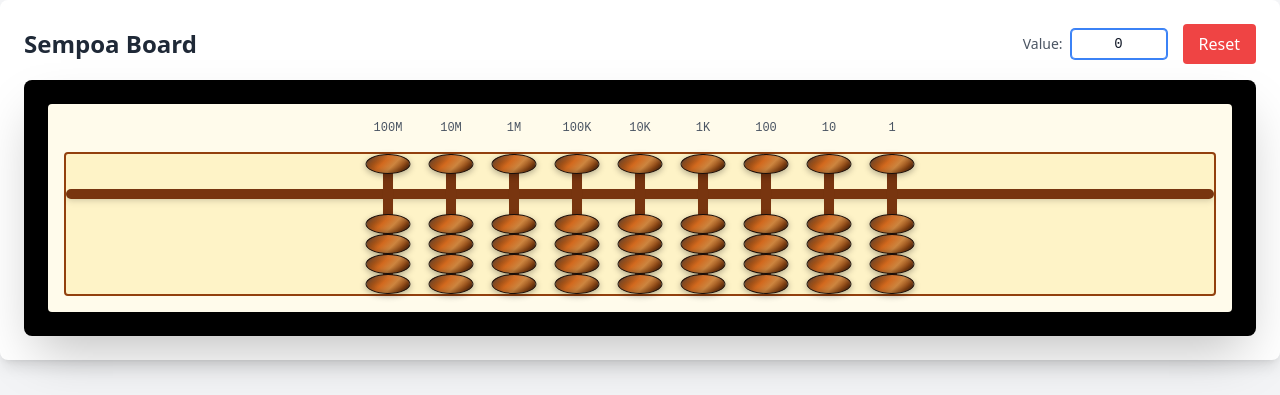
Test: SempoaBoard - Abacus Behavior › Upper Beads Behavior › should toggle independently (current implementation)
The width and height of the screenshot is (1280, 395).
Click the button "Reset" at (1219, 44), box [1182, 24, 1256, 64]
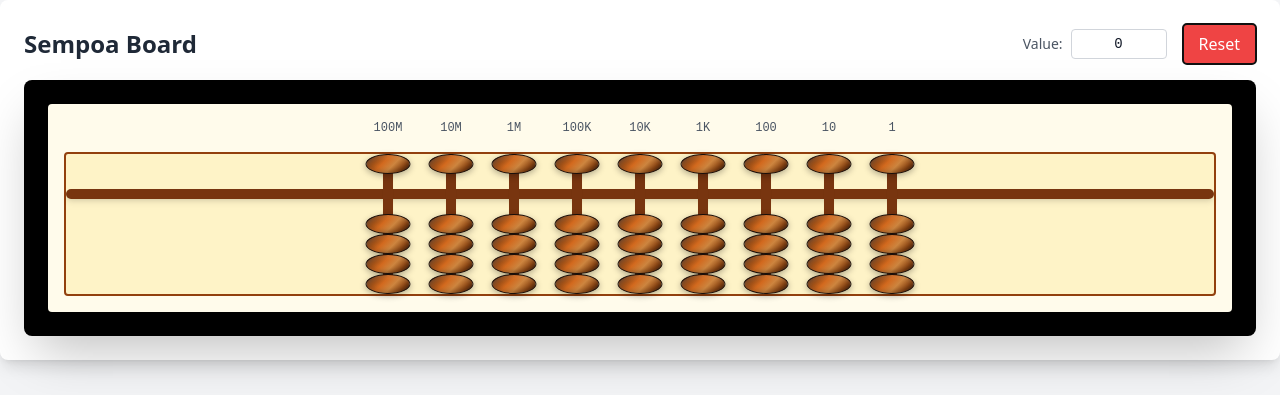
# Click to activate
Click the 1st button named "Bead in column 1, row 1, inactive" at (388, 164), box [366, 154, 410, 174]
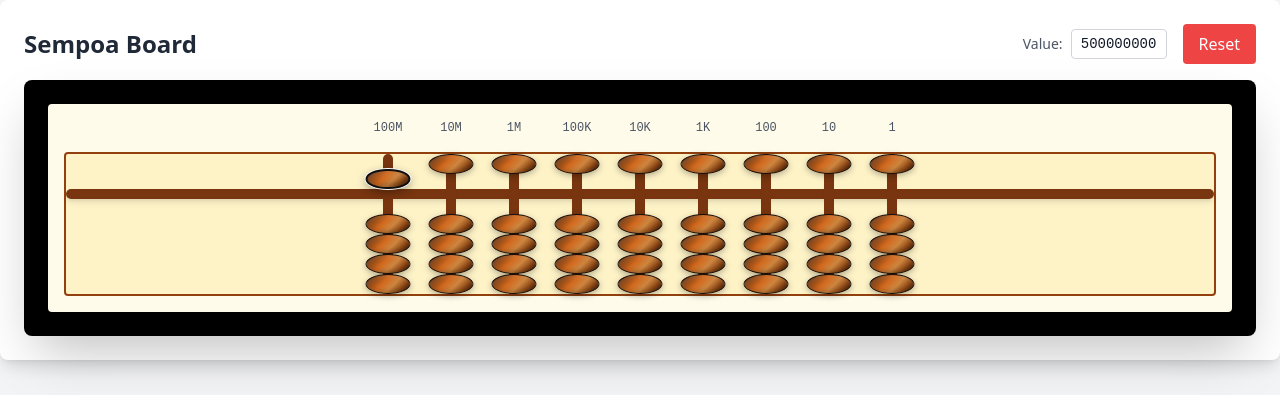
Expected: the field with test id "keyboard-input-field" holds "500000000", [1070, 29, 1166, 59]
# Click again to deactivate
Click the button named "Bead in column 1, row 1, active" at (388, 179), box [366, 169, 410, 189]
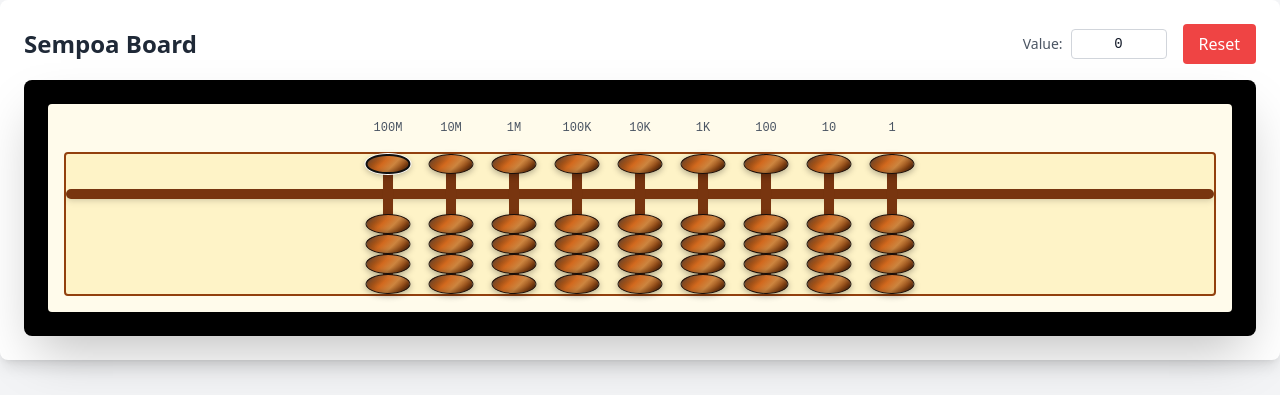
Expected: the field with test id "keyboard-input-field" holds "0", [1070, 29, 1166, 59]
